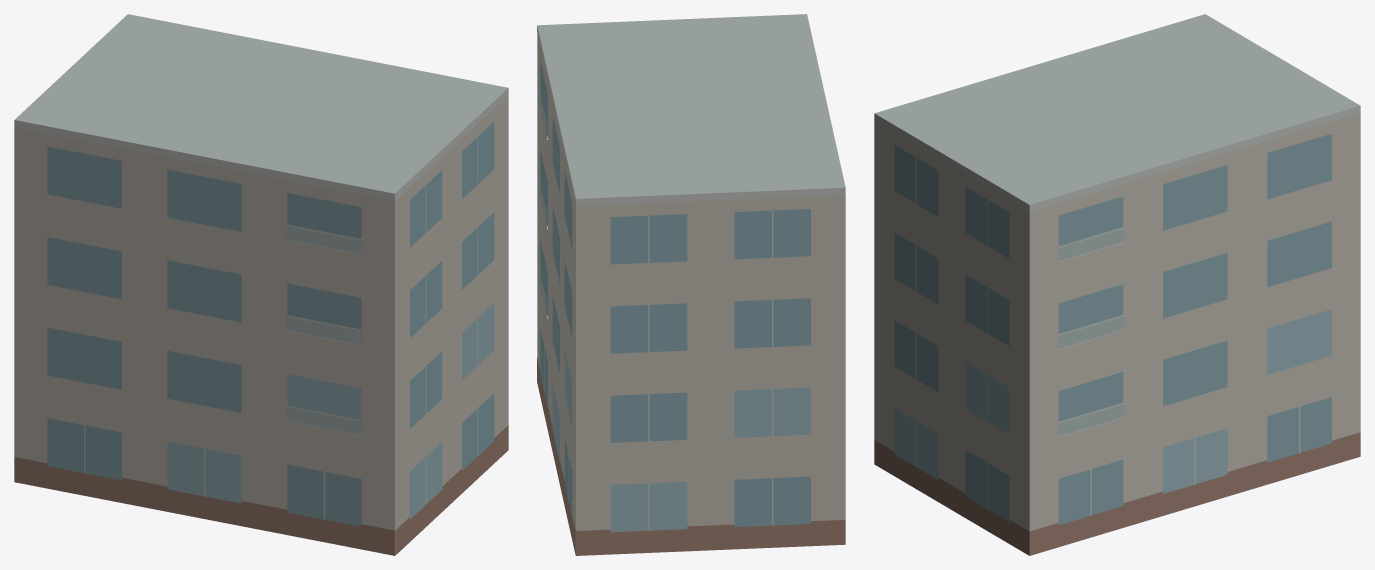
The model's file is survey-upis-32807724.glb.
3 renders of one model, left to right at view 1: azimuth 30°, elevation 25°; view 2: azimuth 150°, elevation 25°; view 3: azimuth 270°, elevation 25°, orthographic. The views are drawn at different scales.
Parts seen in each view (by area): view 1: survey-upis-32807724.tmp; view 2: survey-upis-32807724.tmp; view 3: survey-upis-32807724.tmp.
Part boxes in pixels (x1,y1,x2,y2): survey-upis-32807724.tmp: (14,14,508,555); survey-upis-32807724.tmp: (537,14,845,555); survey-upis-32807724.tmp: (874,14,1360,555).
Size of the model in its own units: 14.24 by 12.2 by 15.32.
